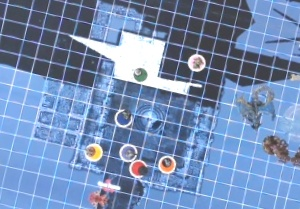blue: (110, 105, 136, 133)
green: (127, 61, 154, 87)
orange: (153, 151, 179, 178)
pink: (183, 48, 210, 76)
red: (125, 154, 151, 181)
violet: (115, 141, 143, 165)
yellow: (82, 139, 108, 165)
